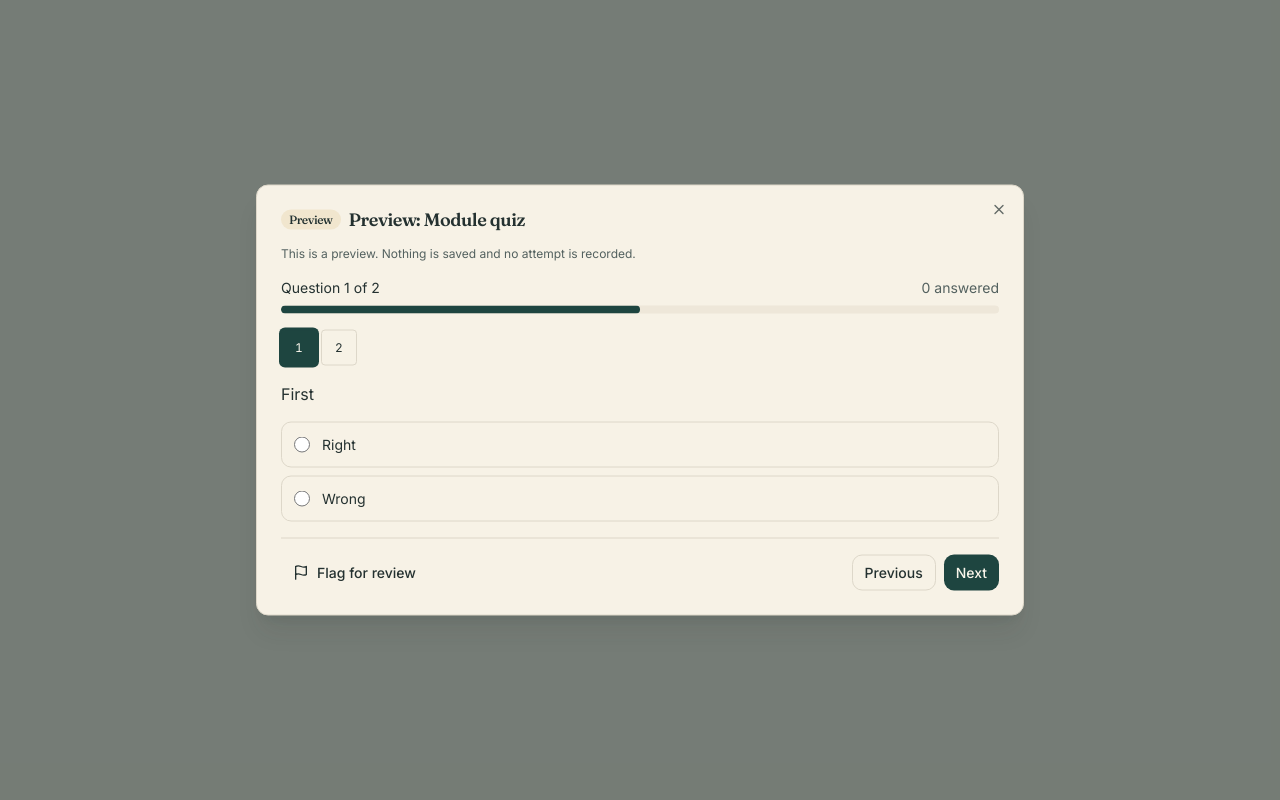
Test case: AssessmentPreview › navigates between questions and tracks progress
The width and height of the screenshot is (1280, 800).
Check: the text "Question 1 of 2" is shown, box 281,278 -> 380,298
Check: the button "Previous" is disabled, box 852,554 -> 936,590
Step 1. Click the button "Next" → {"x": 971, "y": 572}, box 944,554 -> 999,590
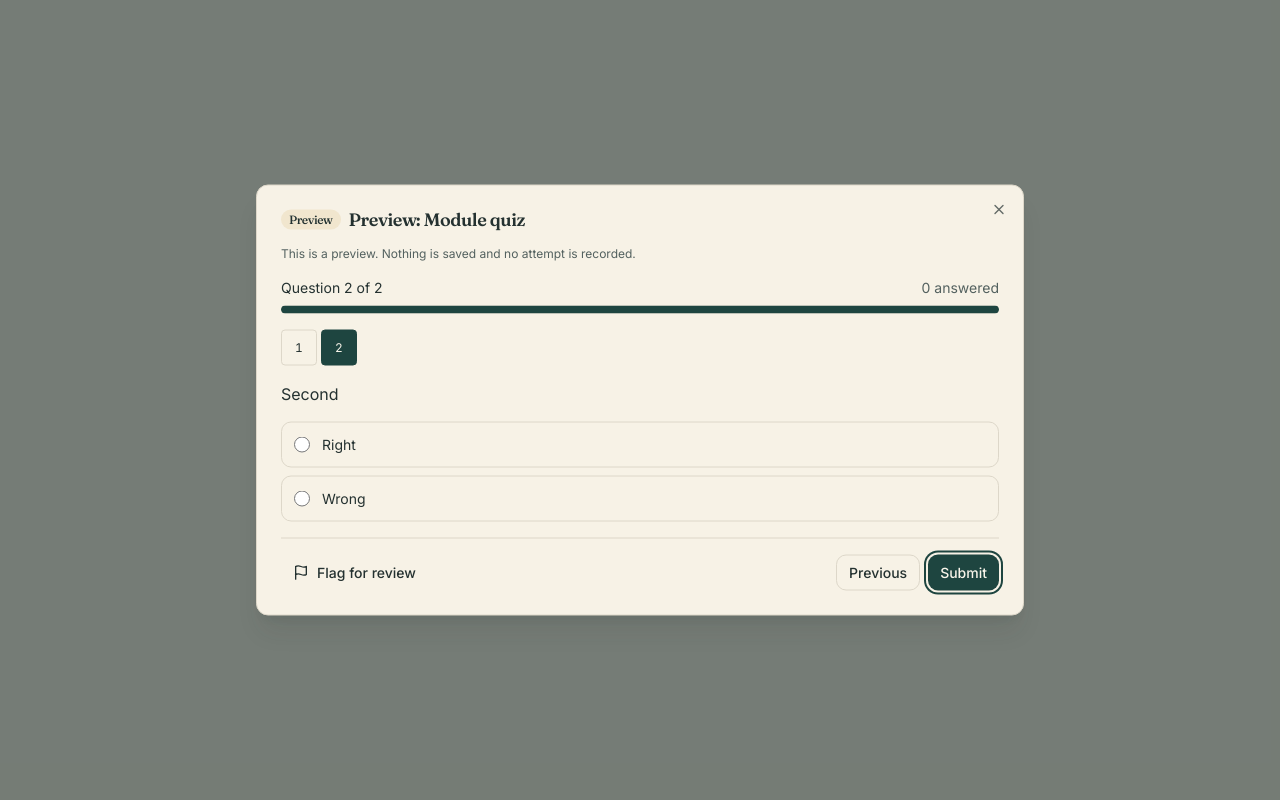
Check: the text "Question 2 of 2" is shown, box 281,278 -> 383,298
Step 2. Click the button "Previous" → {"x": 878, "y": 572}, box 836,554 -> 920,590
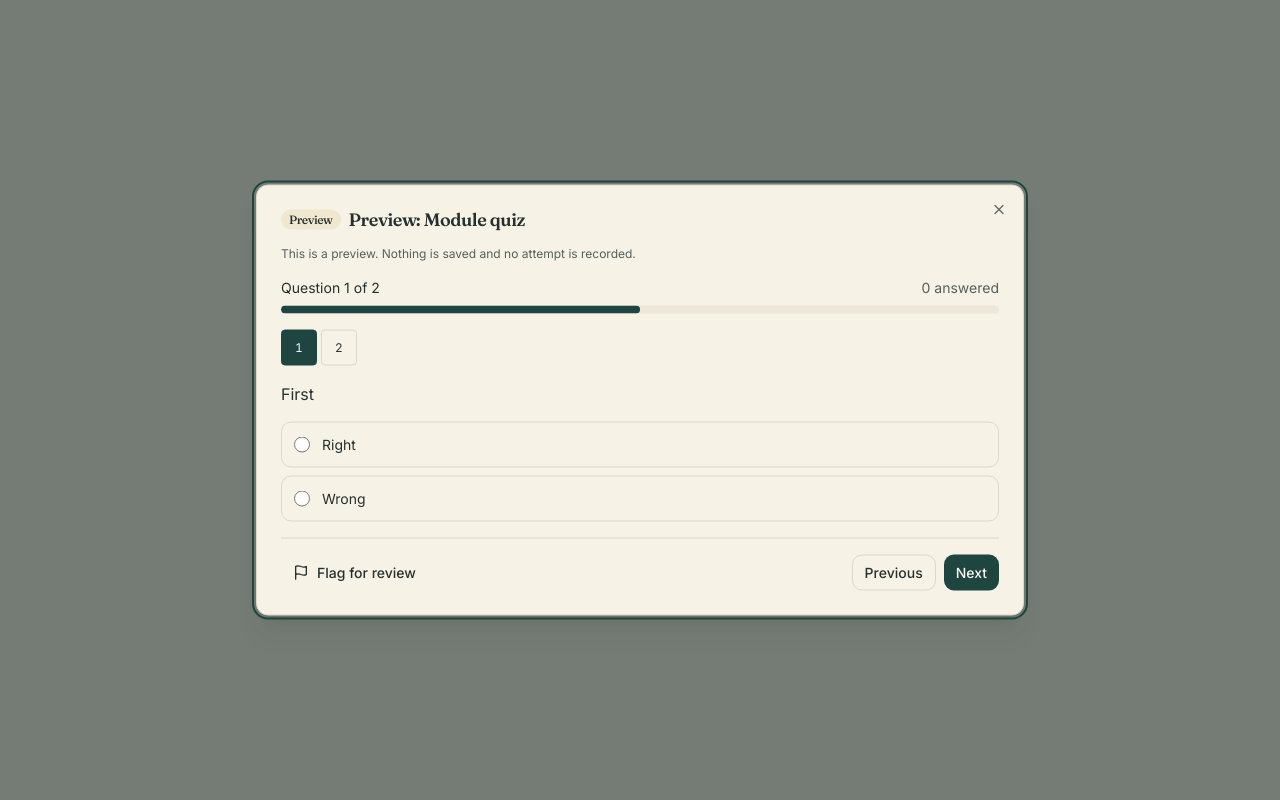
Check: the text "Question 1 of 2" is shown, box 281,278 -> 380,298
